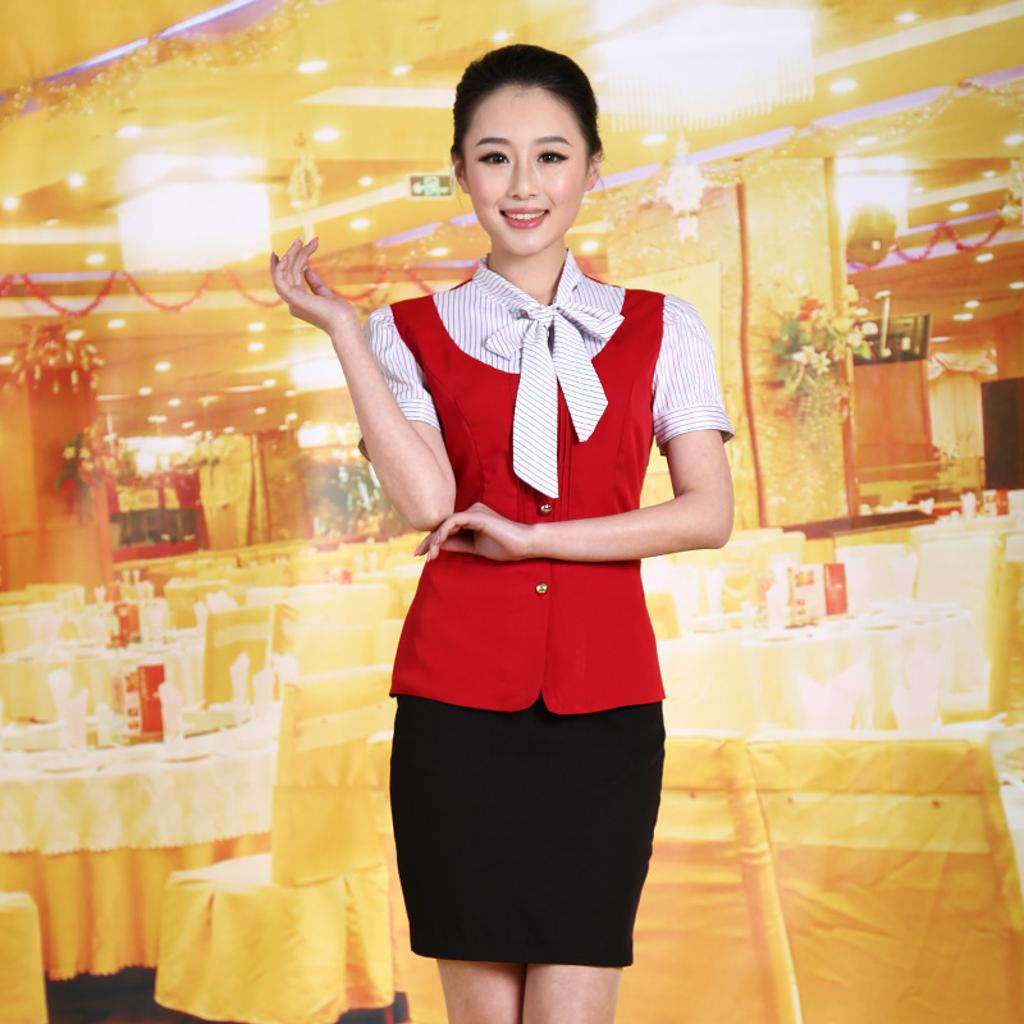face: (464, 80, 586, 256)
